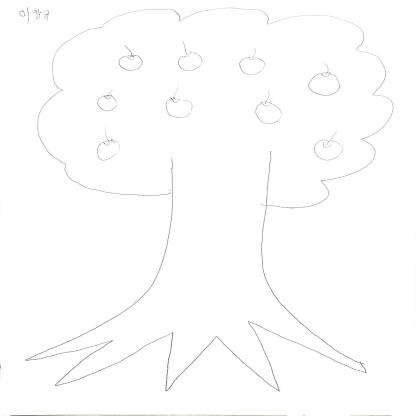apple: (309, 70, 344, 98), (254, 98, 284, 126), (94, 136, 126, 162), (162, 96, 195, 120), (174, 50, 207, 74), (314, 136, 344, 160), (236, 56, 268, 76), (96, 88, 122, 112), (115, 52, 146, 72)
crown_cloud: (35, 10, 396, 210)
root_only: (22, 300, 374, 392)
trunk_straight: (144, 202, 276, 288)
